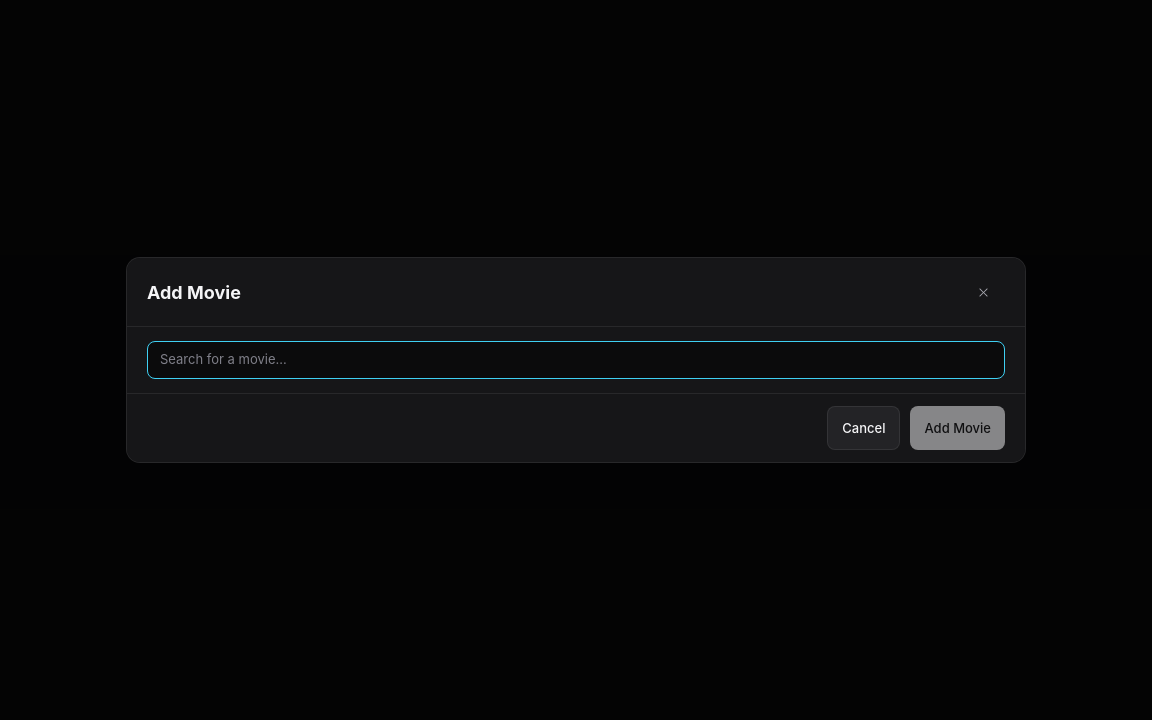
Scenario: movies use the studio in the meta line
Type "result" into the field labelled "Search for a movie…" at (576, 360), box top-left (147, 341), bottom-right (1005, 379)
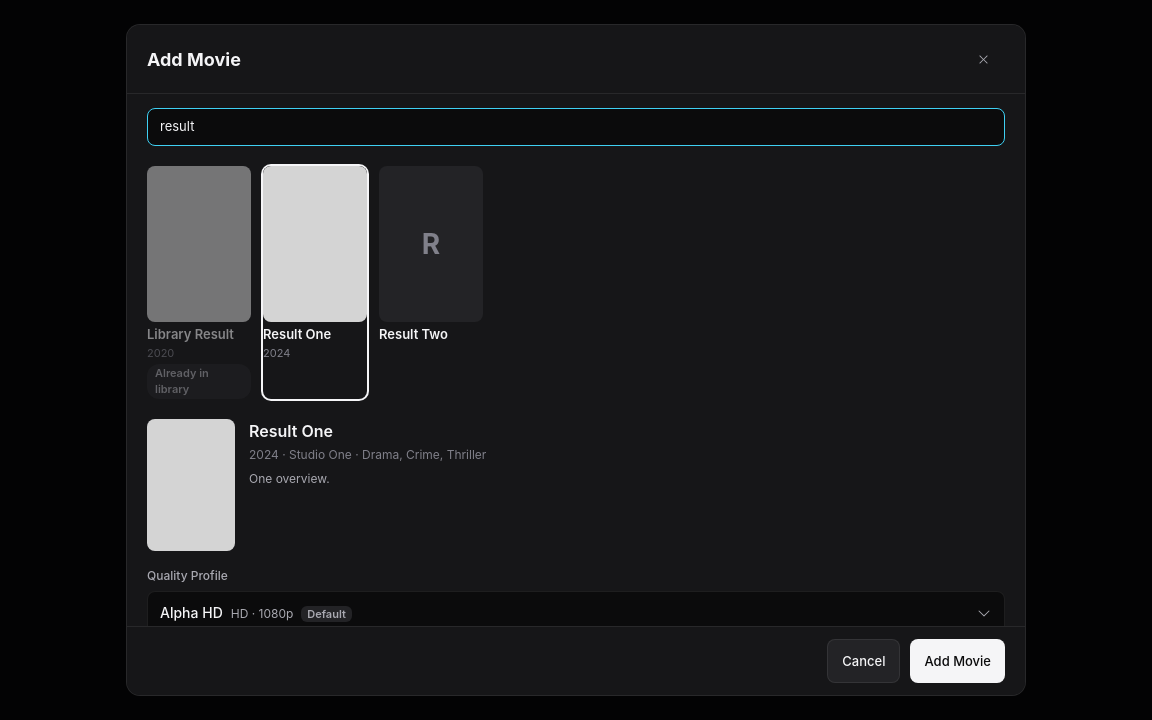
expect the button "Add Movie" is shown: met, box top-left (910, 639), bottom-right (1005, 683)
expect the text with class "selected-meta" reads "2024 · Studio One · Drama, Crime, Thriller": met, box top-left (249, 447), bottom-right (486, 462)
